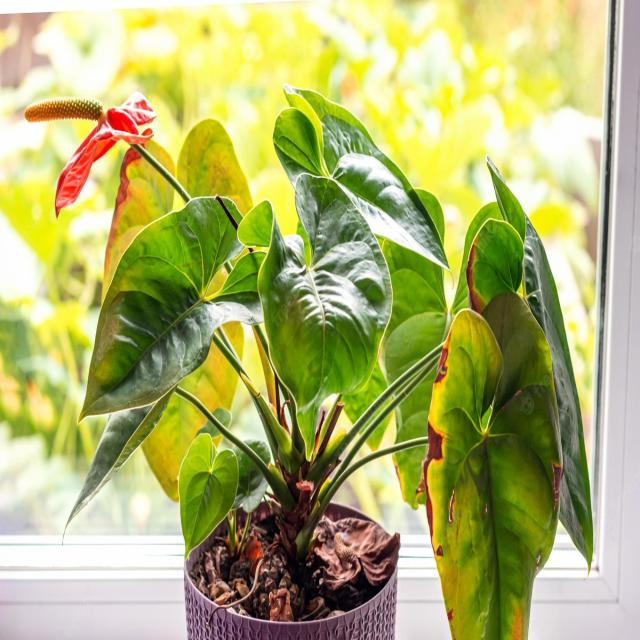blight: (419, 327, 456, 570)
